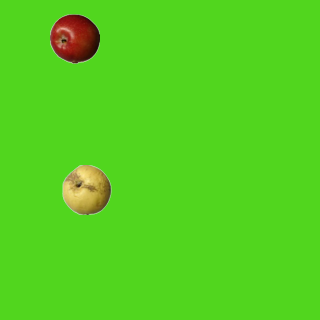Apple Braeburn: (49, 13, 99, 63)
Apple Golden 1: (61, 164, 111, 214)
